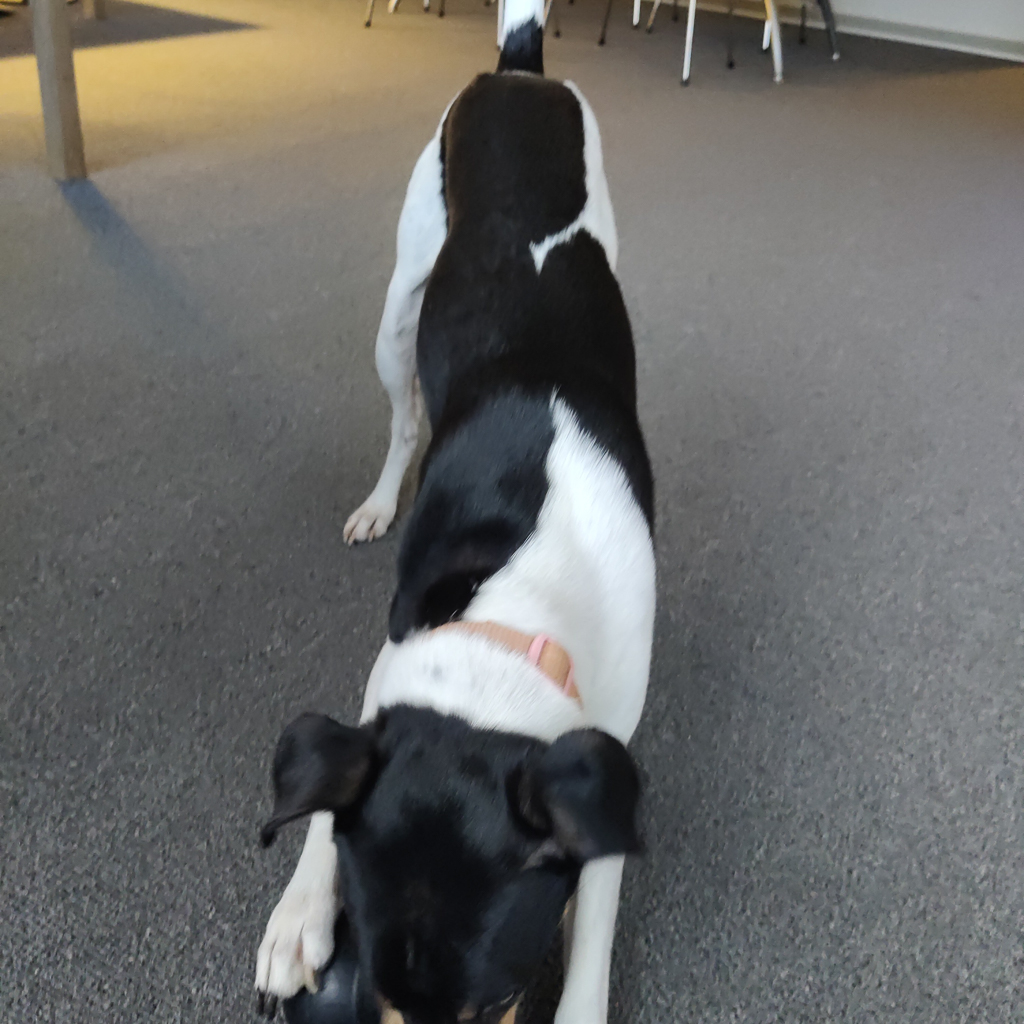Dog: (193, 0, 708, 1024)
